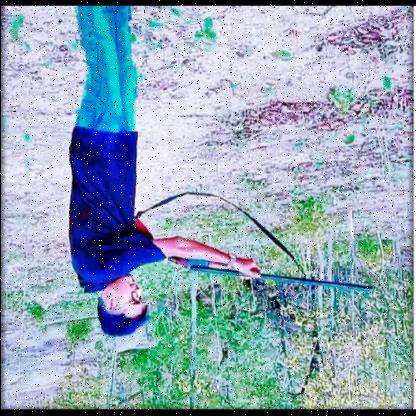rifle: (130, 215, 373, 293)
